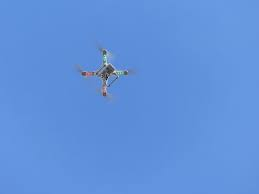drone: (77, 47, 133, 99)
